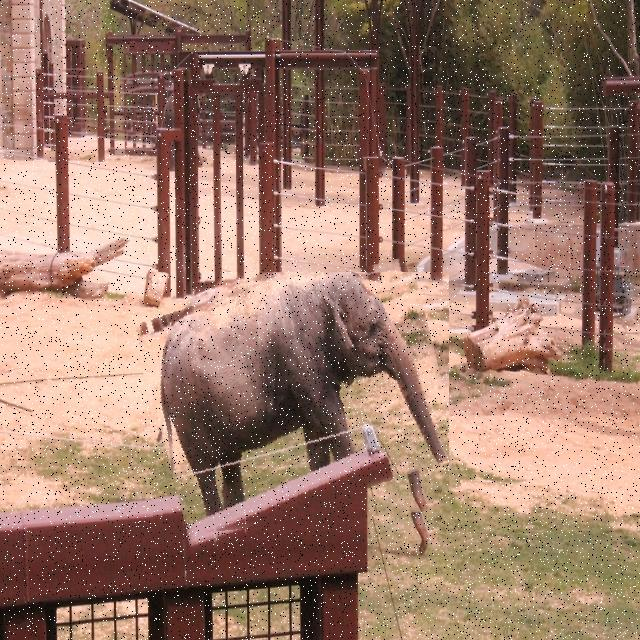elephant: (147, 272, 449, 538)
